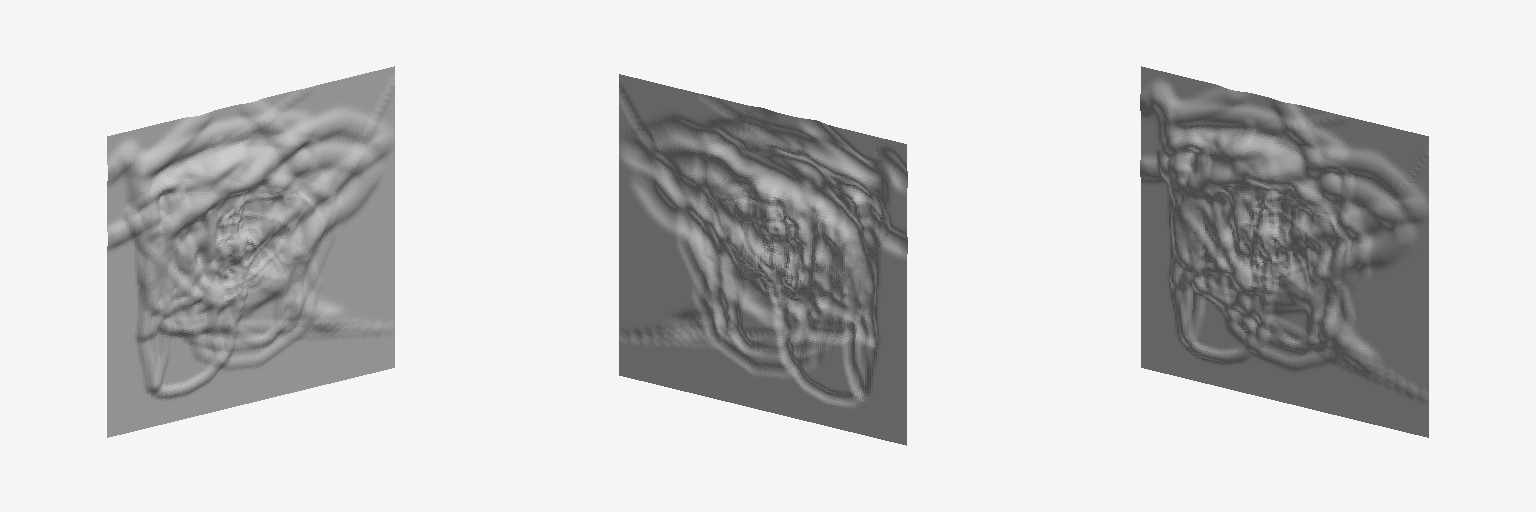
The model's file is world3.obj.
3 views of the same model, side by side, from view 1: azimuth 30°, elevation 25°; view 2: azimuth 150°, elevation 25°; view 3: azimuth 330°, elevation 25° (orthographic).
Parts seen in each view (by area): view 1: Mesh_Grid.001; view 2: Mesh_Grid.001; view 3: Mesh_Grid.001.
Part boxes in pixels (left/top/right/bottom): Mesh_Grid.001: left=107, top=66, right=394, bottom=437; Mesh_Grid.001: left=619, top=74, right=907, bottom=445; Mesh_Grid.001: left=1140, top=66, right=1428, bottom=437.
Bounding box in the file's own units: 1219 × 1219 × 76.5.